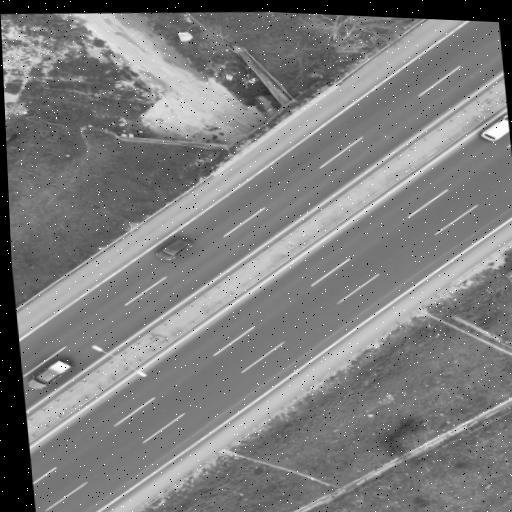car: (28, 359, 73, 388), (157, 237, 192, 259), (481, 114, 509, 140)
